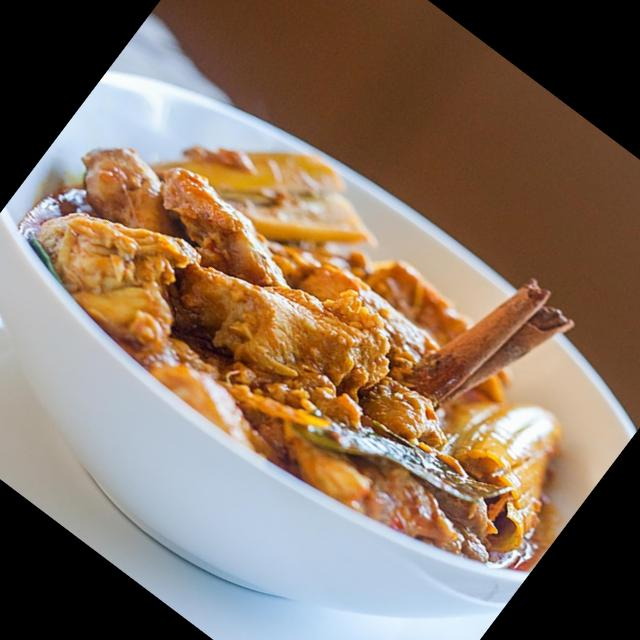chicken: (18, 70, 618, 608)
